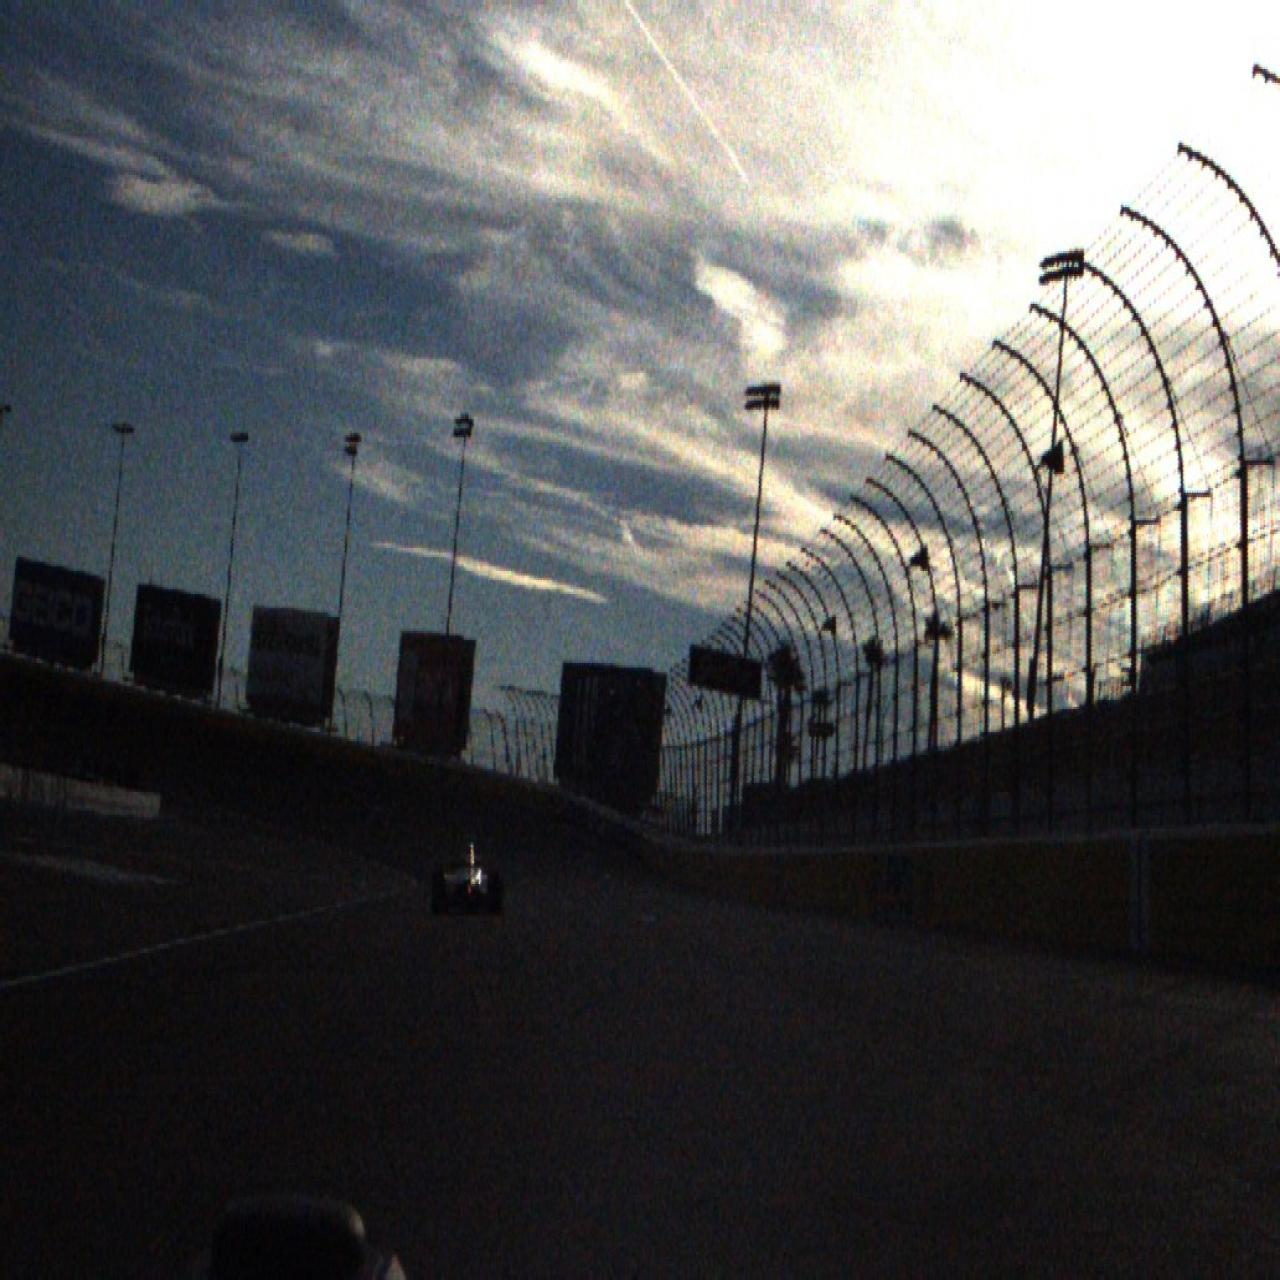AV: (431, 829, 504, 915)
Wheel: (488, 871, 503, 915), (433, 871, 445, 914)
